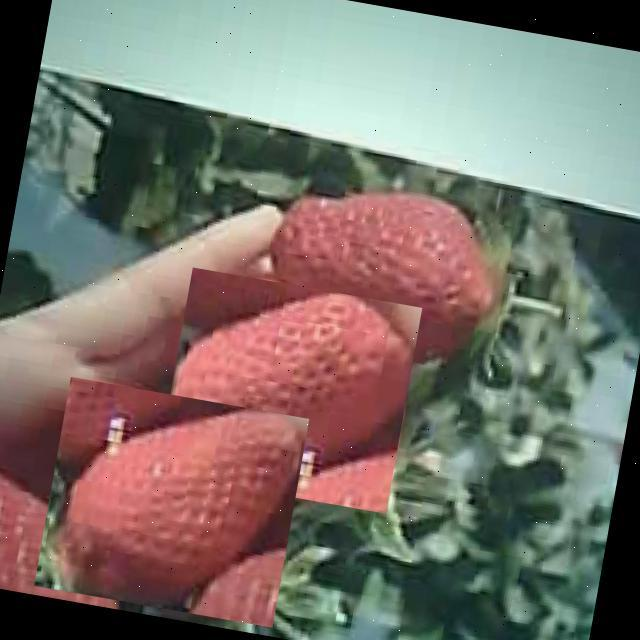ripe: (34, 377, 308, 627), (156, 267, 422, 513), (263, 173, 516, 374)
